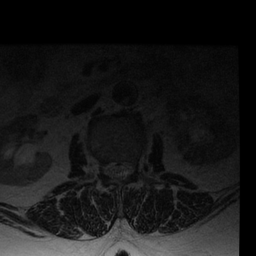CCS_normal: (114, 153, 122, 186)
LFS_normal: (131, 153, 140, 180)
LLS_normal: (122, 150, 131, 185)
RFS_normal: (98, 152, 106, 183)
RLS_normal: (106, 152, 114, 184)
